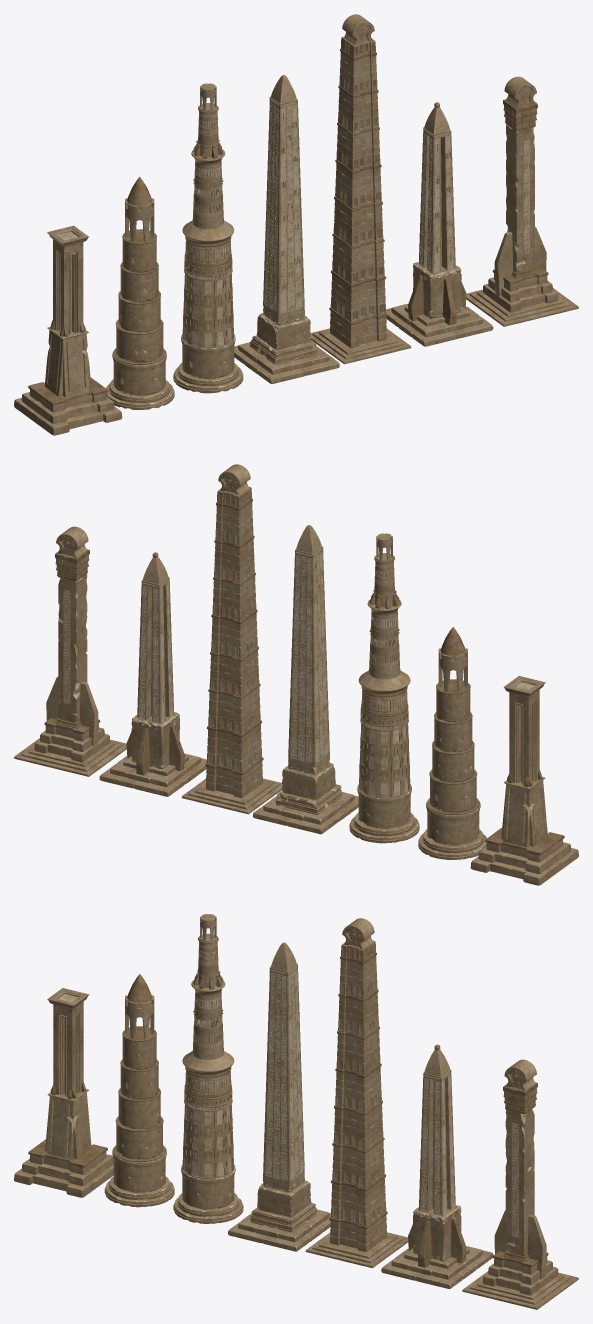
File: obelisk.glb
3 renders of one model, top to bottom at view 1: azimuth 30°, elevation 25°; view 2: azimuth 150°, elevation 25°; view 3: azimuth 330°, elevation 25°, orthographic.
Parts seen in each view (by area): view 1: Obelisk03.Shape, Obelisk01.Shape, Obelisk02.Shape, Obelisk06.Shape, Obelisk05.Shape, Obelisk07.Shape, Obelisk08.Shape; view 2: Obelisk03.Shape, Obelisk01.Shape, Obelisk02.Shape, Obelisk06.Shape, Obelisk05.Shape, Obelisk07.Shape, Obelisk08.Shape; view 3: Obelisk03.Shape, Obelisk01.Shape, Obelisk02.Shape, Obelisk06.Shape, Obelisk05.Shape, Obelisk07.Shape, Obelisk08.Shape.
Boxes of the visible parts, x1,y1,x2,y2 form: Obelisk03.Shape: [310, 14, 411, 364]; Obelisk01.Shape: [234, 75, 339, 383]; Obelisk02.Shape: [173, 83, 243, 393]; Obelisk06.Shape: [466, 76, 578, 326]; Obelisk05.Shape: [386, 102, 493, 346]; Obelisk07.Shape: [106, 176, 174, 409]; Obelisk08.Shape: [14, 225, 122, 435]; Obelisk03.Shape: [181, 464, 282, 814]; Obelisk01.Shape: [253, 525, 358, 834]; Obelisk02.Shape: [349, 533, 419, 843]; Obelisk06.Shape: [14, 526, 126, 776]; Obelisk05.Shape: [99, 552, 206, 796]; Obelisk07.Shape: [418, 627, 486, 859]; Obelisk08.Shape: [470, 676, 578, 885]; Obelisk03.Shape: [305, 918, 408, 1268]; Obelisk01.Shape: [228, 942, 330, 1251]; Obelisk02.Shape: [173, 914, 243, 1223]; Obelisk06.Shape: [462, 1059, 578, 1309]; Obelisk05.Shape: [381, 1044, 493, 1288]; Obelisk07.Shape: [104, 974, 174, 1207]; Obelisk08.Shape: [14, 988, 113, 1197].
Bounding box in the file's own units: 33.92 × 20.02 × 4.88.
20 materials, 20 textured.
